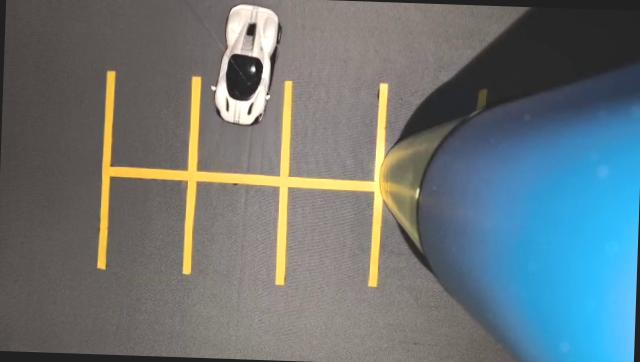toy_car: (182, 0, 304, 153)
